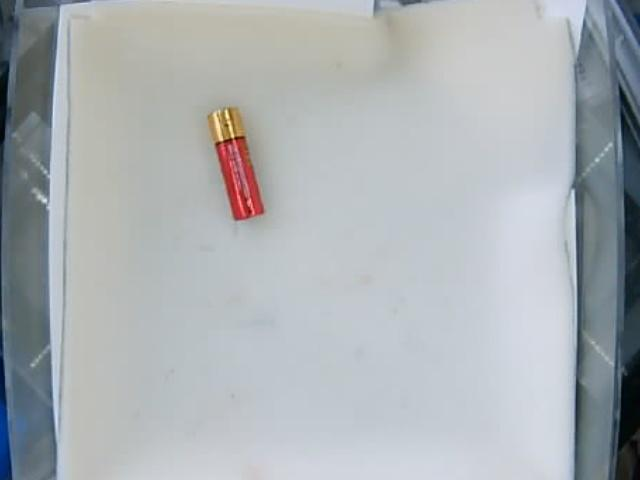Battery: (207, 105, 266, 221)
